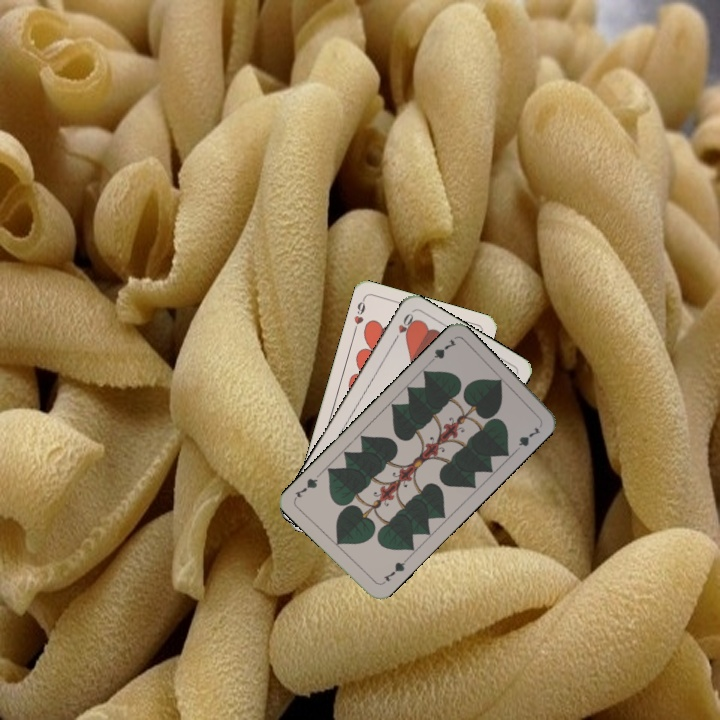G7: (424, 335, 459, 367), (378, 555, 410, 587)
H9: (350, 294, 368, 334)
HO: (389, 309, 417, 345)
